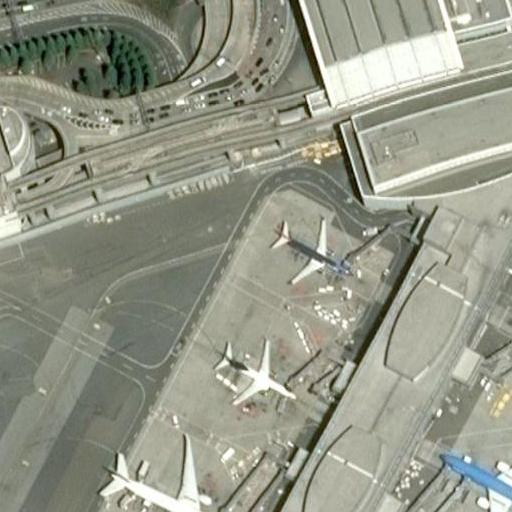Aircraft: (96, 435, 247, 512), (432, 435, 512, 512), (212, 341, 299, 407), (268, 217, 340, 283)
